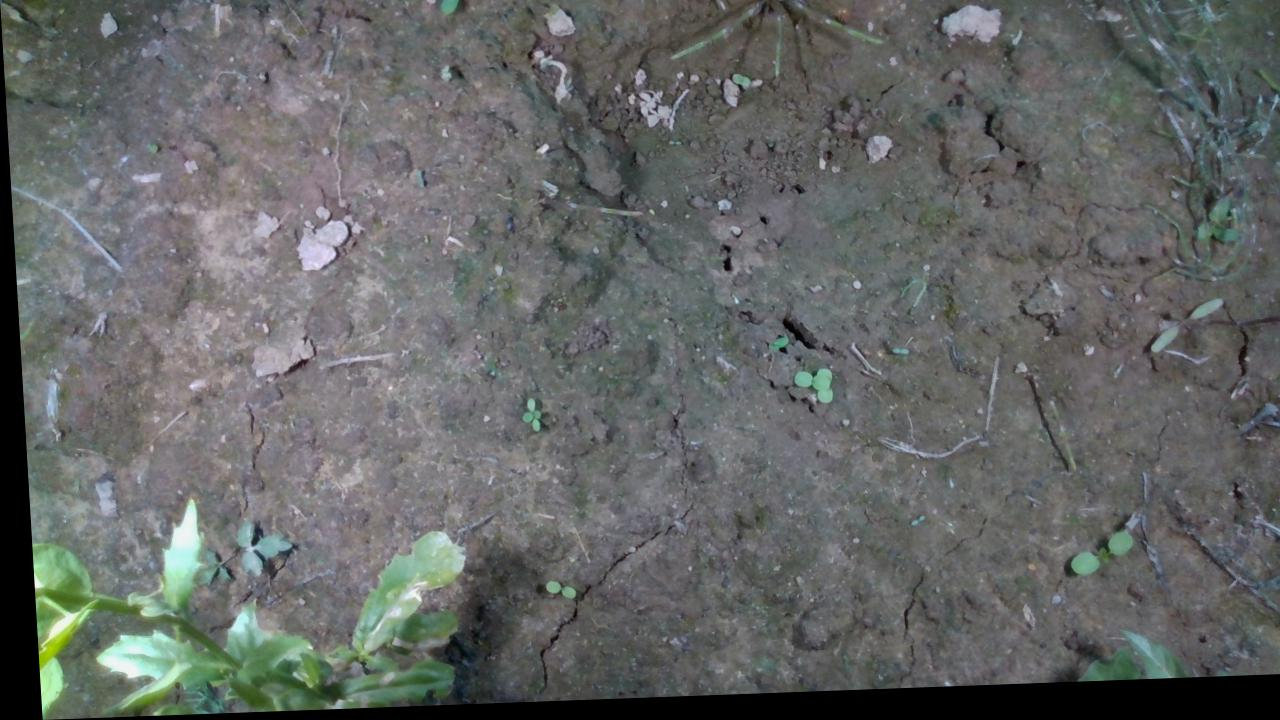weed: (1141, 305, 1221, 361), (1057, 539, 1128, 586), (508, 395, 549, 437), (533, 582, 569, 604)
